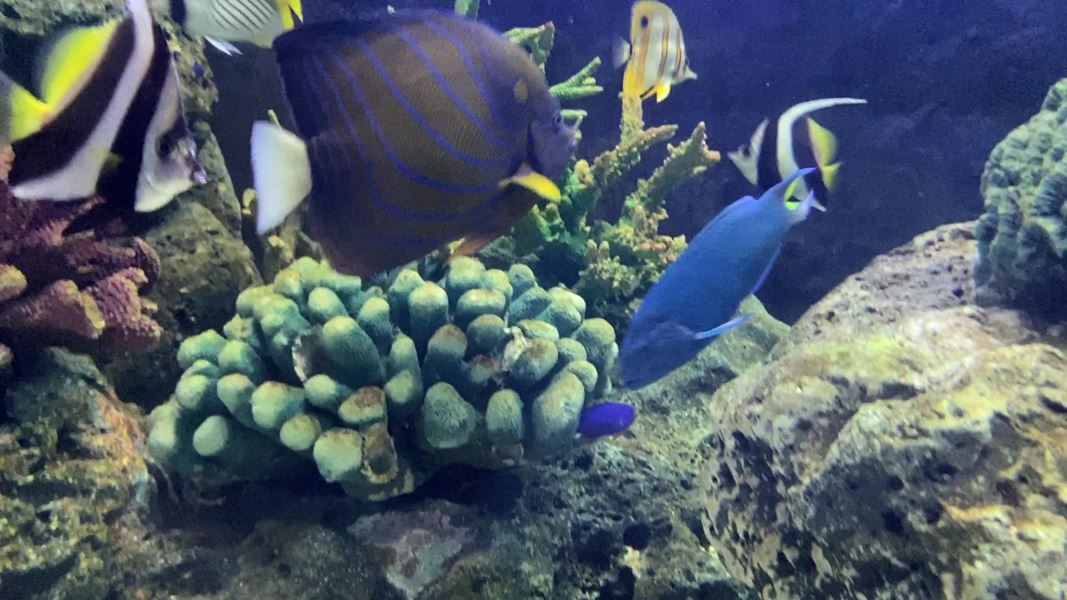Blue ring angelfish: (217, 12, 600, 290)
